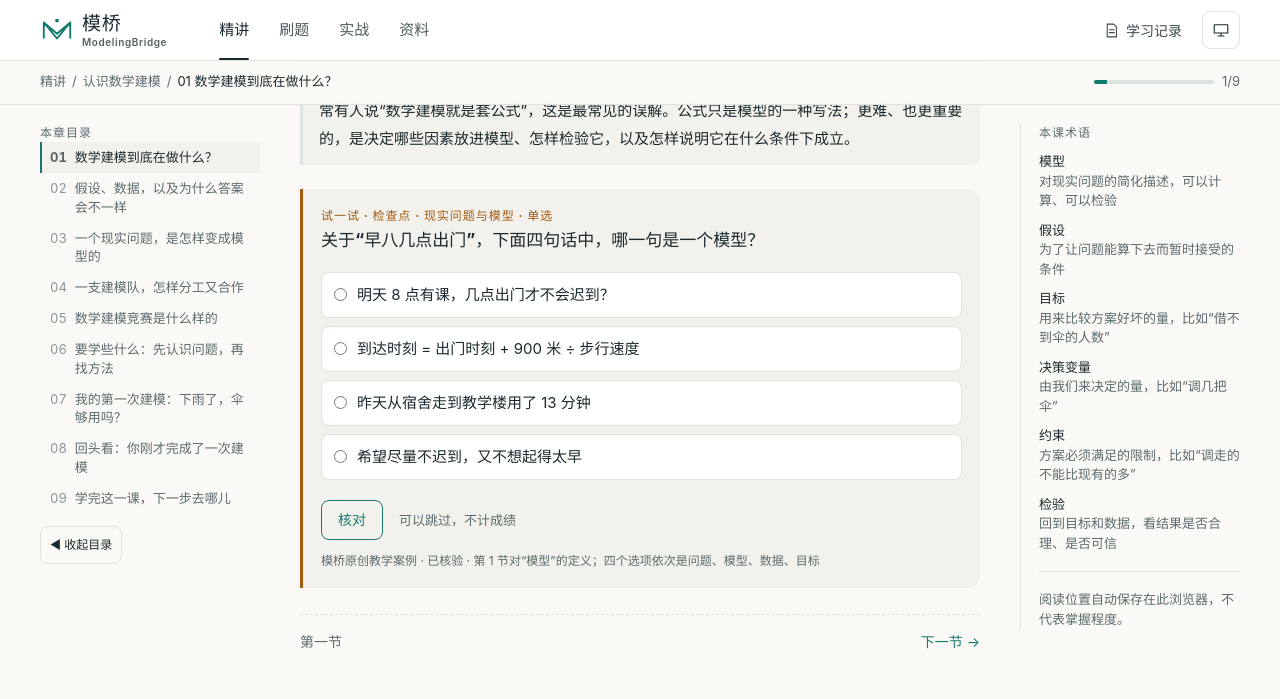
the lesson page › saves a checkpoint answer in the learning record
(page scrolled)
Click the radio button labelled "昨天从宿舍走到教学楼用了 13 分钟" at (340, 403), box 334,396 -> 347,409
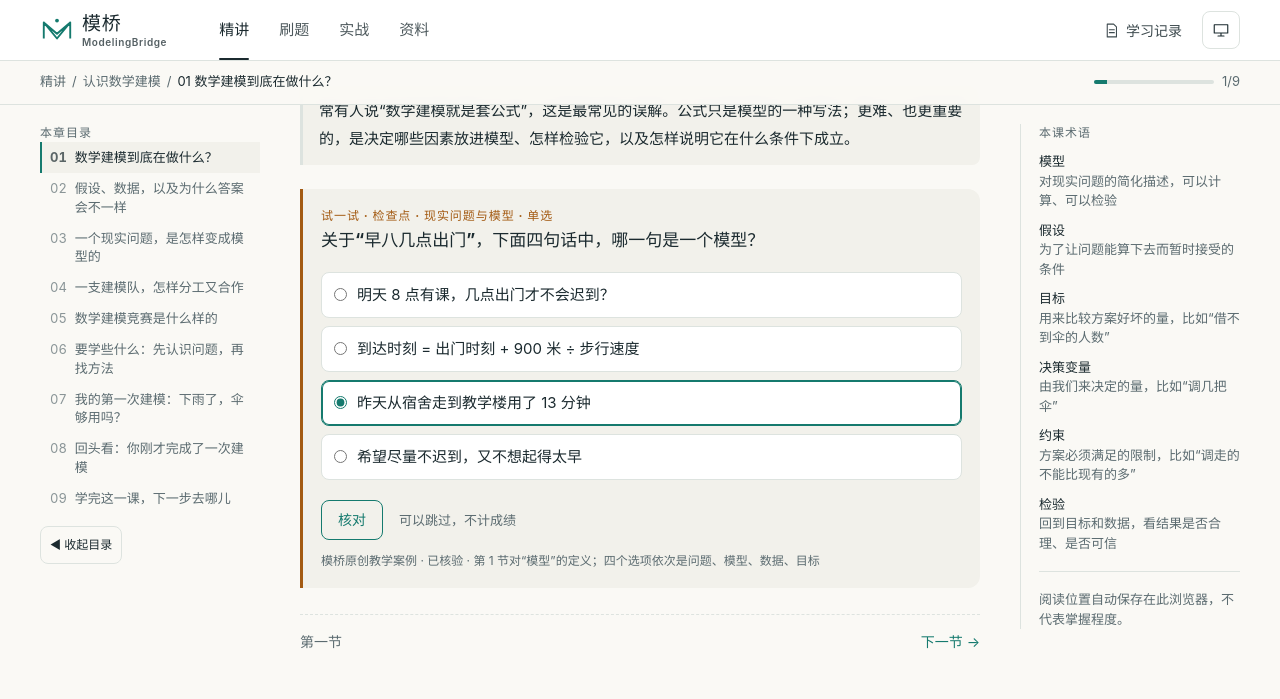
Click the button "核对" at (352, 520), box 321,500 -> 383,540
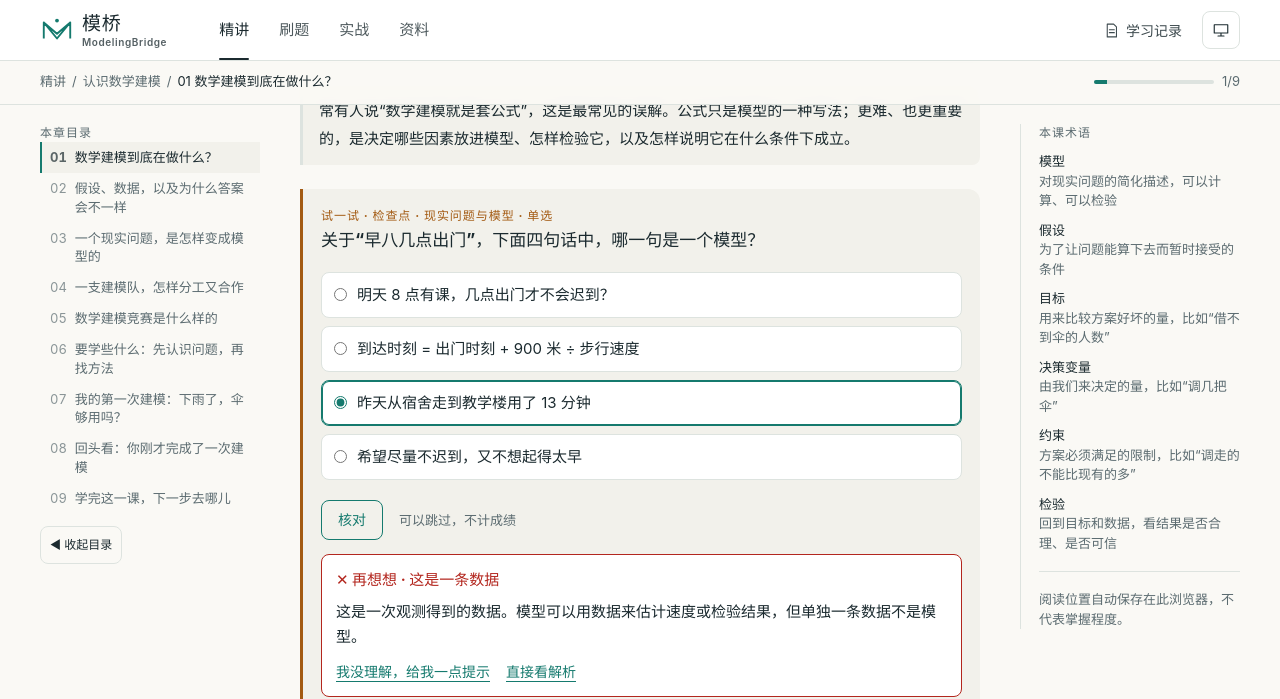
Result: the message shows "这是一条数据" at 397,570 -> 499,589
Click the radio button labelled "到达时刻 = 出门时刻 + 900 米 ÷ 步行速度" at (340, 349), box 334,342 -> 347,355
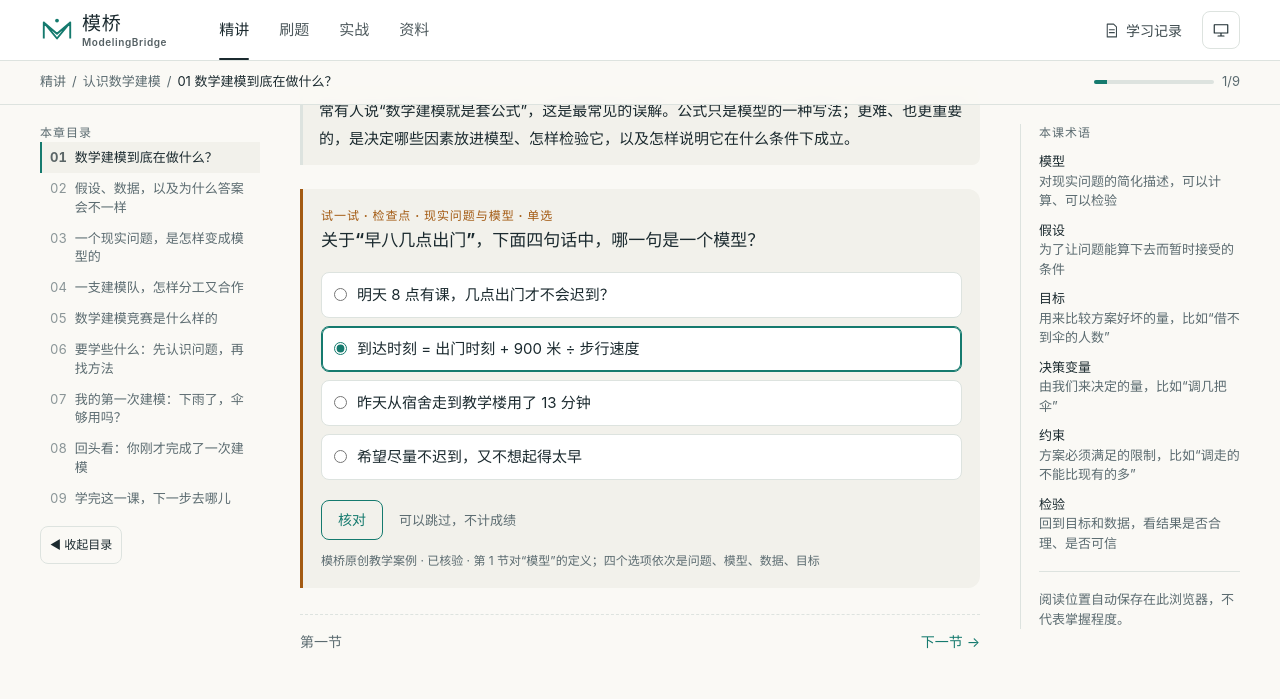
Click the button "核对" at (352, 520), box 321,500 -> 383,540
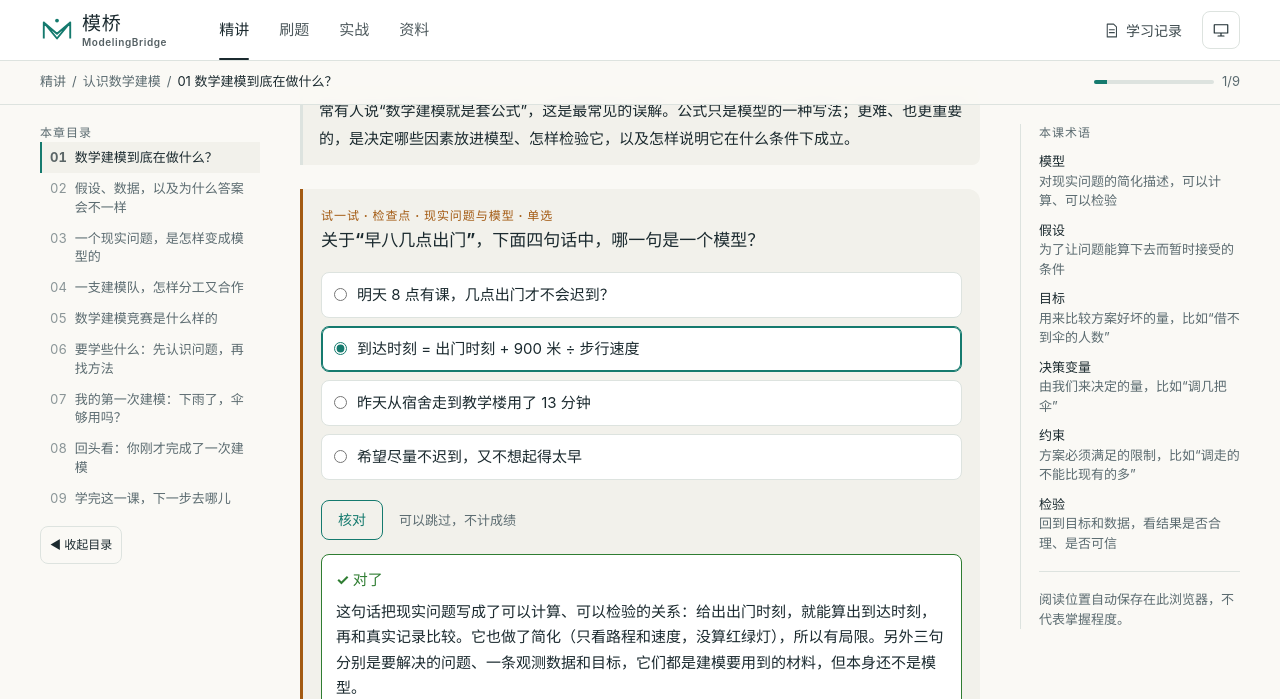
Result: the message shows "✓ 对了" at 336,570 -> 383,589
